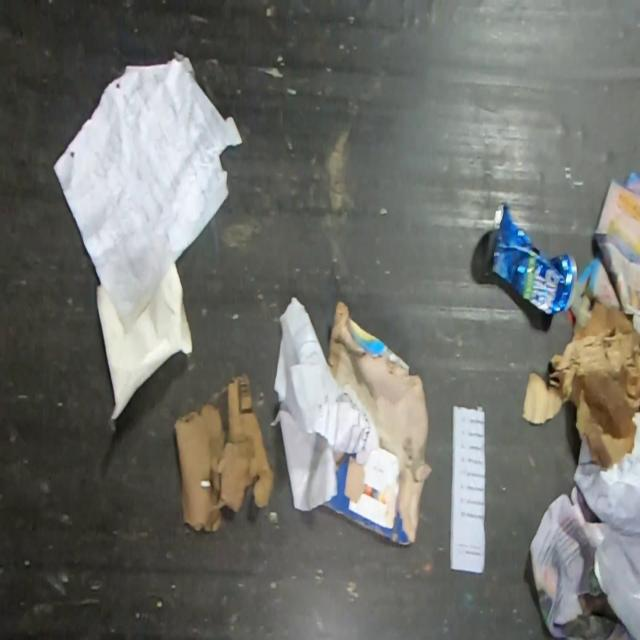cardboard: (320, 299, 433, 545), (522, 299, 640, 467)
metal: (484, 199, 578, 316)
soft_plastic: (593, 529, 640, 640)
